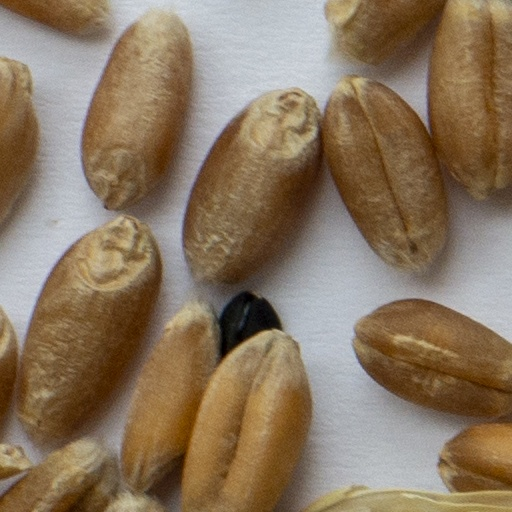Fallopia-Сonvolvulus-poly: (221, 292, 279, 351)
Wheat-grain-poly: (431, 0, 511, 198)
